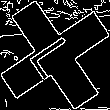L_NE: (25, 28, 85, 82)
